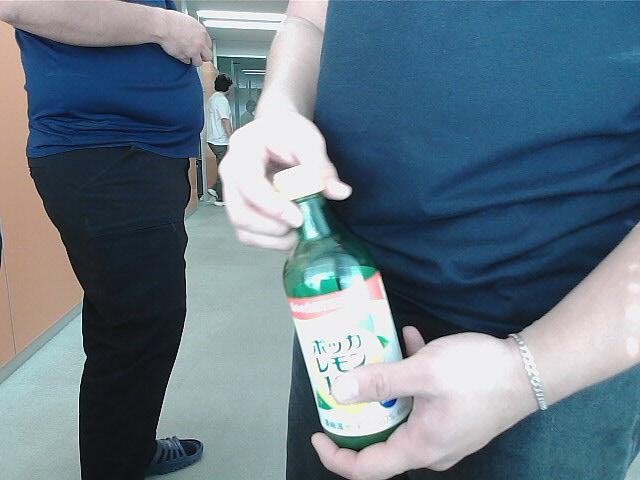Lemon_sapporo: (242, 152, 426, 460)
